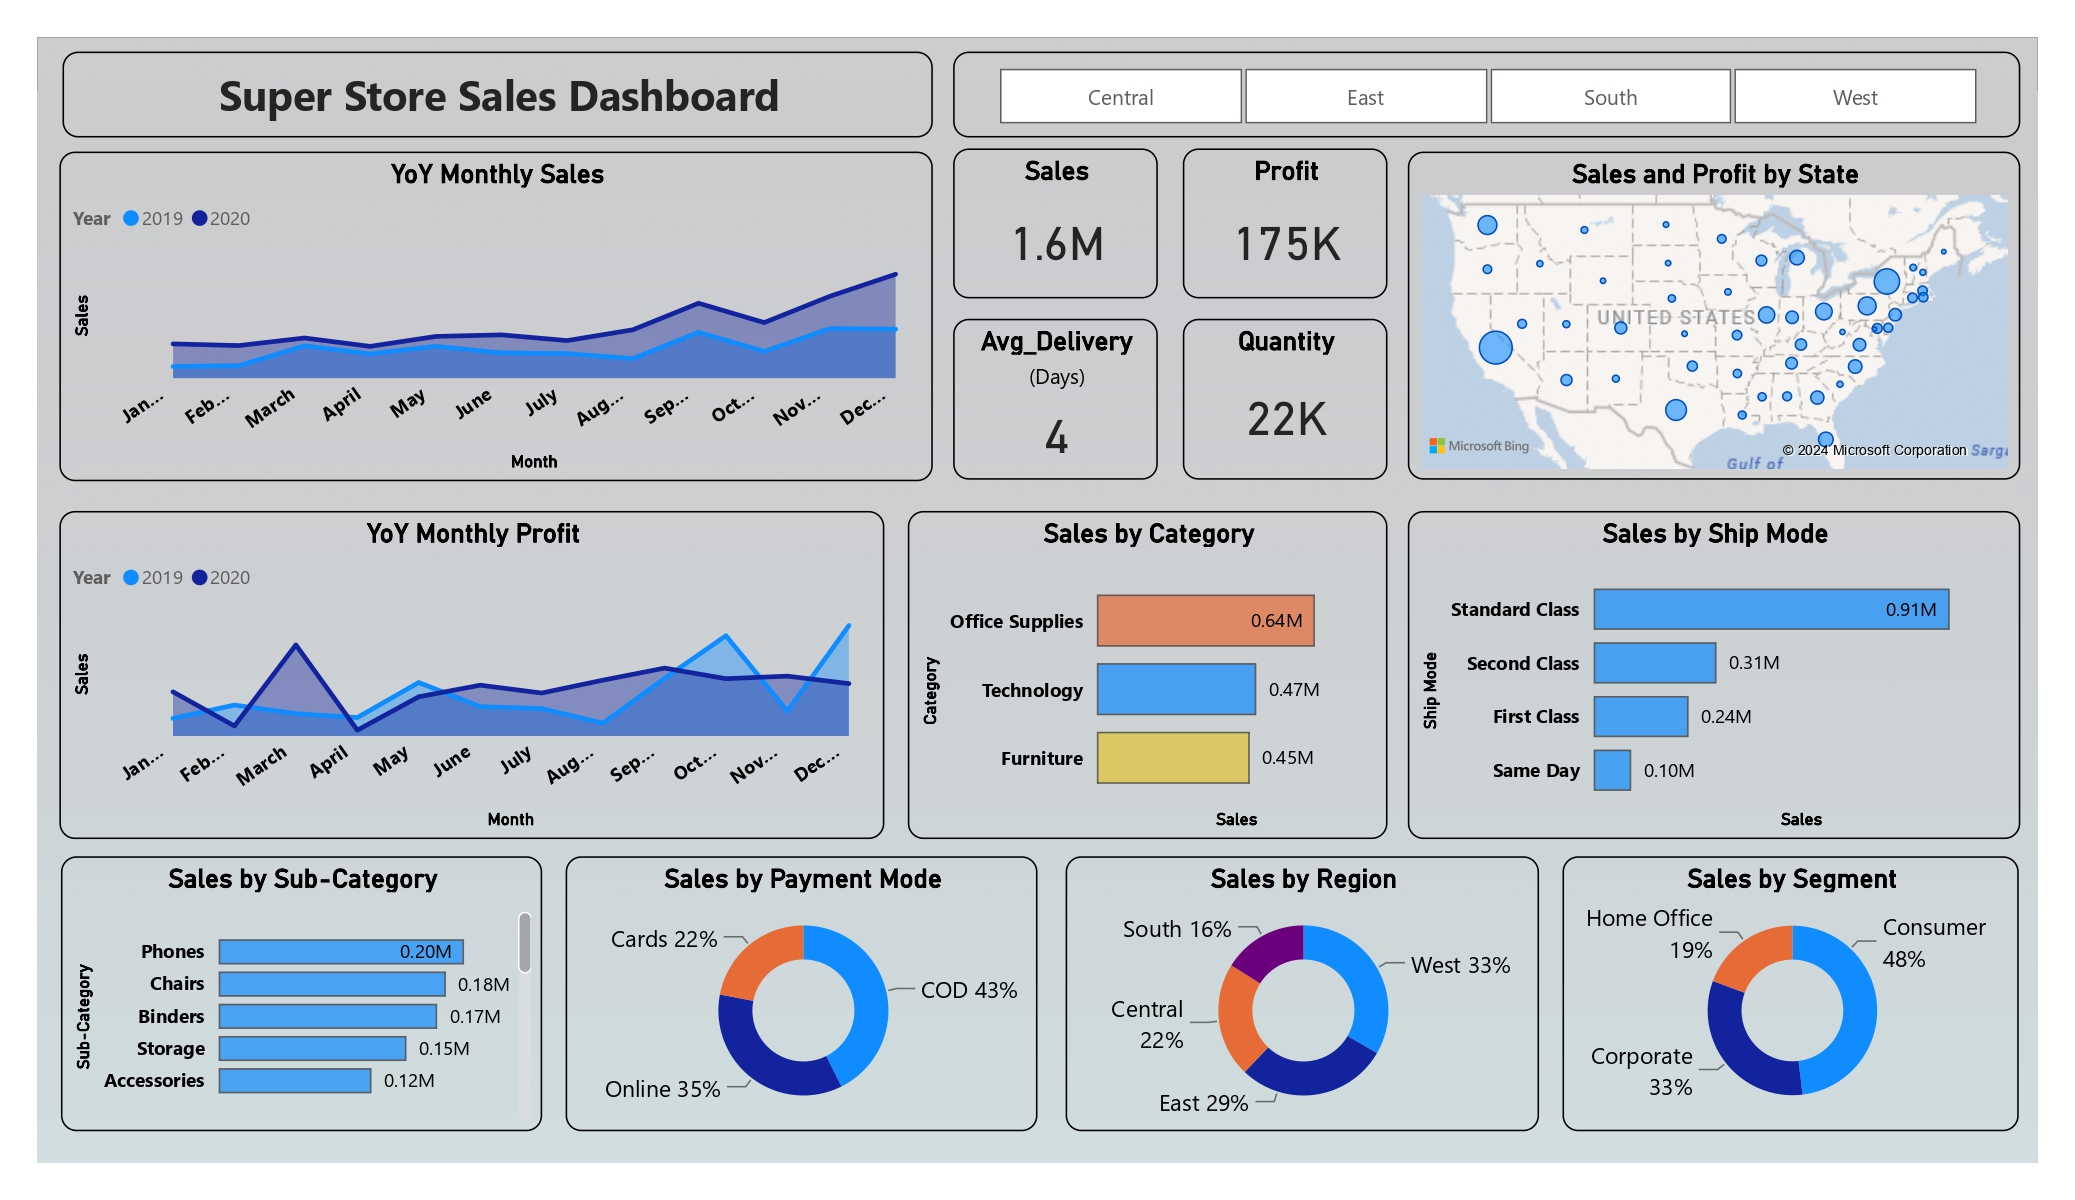

Layout of this report page (visuals, bound fields, positions):
{"tool":"powerbi","page":{"name":"Page 1","canvas":[1280,720],"ordinal":0},"visuals":[{"type":"barChart","title":"Sales by Category","fields":{"Y":["Sum(SuperStore_Sales_Dataset.Sales)"],"Category":["SuperStore_Sales_Dataset.Category"]},"box":[557,303,307,210],"z":0},{"type":"barChart","title":"Sales by Ship Mode","fields":{"Y":["Sum(SuperStore_Sales_Dataset.Sales)"],"Category":["SuperStore_Sales_Dataset.Ship Mode"]},"box":[877.1,302.9,391.4,210],"z":1000},{"type":"barChart","title":"Sales by Sub-Category","fields":{"Y":["Sum(SuperStore_Sales_Dataset.Sales)"],"Category":["SuperStore_Sales_Dataset.Sub-Category"]},"box":[15.1,524.1,307.4,176.4],"z":2000},{"type":"map","title":"Sales and Profit by State","fields":{"Size":["Sum(SuperStore_Sales_Dataset.Sales)"],"Category":["SuperStore_Sales_Dataset.State"]},"box":[877.1,72.9,391.4,210],"z":3000},{"type":"donutChart","title":"Sales by Segment","fields":{"Y":["Sum(SuperStore_Sales_Dataset.Sales)"],"Category":["SuperStore_Sales_Dataset.Segment"]},"box":[976,524.1,292.3,176.4],"z":4000},{"type":"donutChart","title":"Sales by Region","fields":{"Y":["Sum(SuperStore_Sales_Dataset.Sales)"],"Category":["SuperStore_Sales_Dataset.Region"]},"box":[658.5,524.1,302.4,176.4],"z":5000},{"type":"donutChart","title":"Sales by Payment Mode","fields":{"Y":["Sum(SuperStore_Sales_Dataset.Sales)"],"Category":["SuperStore_Sales_Dataset.Payment Mode"]},"box":[337.6,524.1,302.4,176.4],"z":6000},{"type":"slicer","fields":{"Values":["SuperStore_Sales_Dataset.Region"]},"box":[585.7,8.6,682.9,55.7],"z":7000},{"type":"textbox","box":[15.7,8.6,557.1,55.7],"z":8000},{"type":"card","title":"Sales","fields":{"Values":["Sum(SuperStore_Sales_Dataset.Sales)"]},"box":[585.7,71.4,131.4,95.7],"z":9000},{"type":"card","title":"Quantity","fields":{"Values":["Sum(SuperStore_Sales_Dataset.Quantity)"]},"box":[732.9,180,131.4,102.9],"z":10000},{"type":"card","title":"Profit","fields":{"Values":["Sum(SuperStore_Sales_Dataset.Profit)"]},"box":[732.9,71.4,131.4,95.7],"z":11000},{"type":"card","title":"Avg_Delivery","fields":{"Values":["Avg(SuperStore_Sales_Dataset.Avg_Delivery)"]},"box":[585.7,180,131.4,102.9],"z":12000},{"type":"lineChart","title":"YoY Monthly Sales","fields":{"Y":["Sum(SuperStore_Sales_Dataset.Sales)"],"Category":["SuperStore_Sales_Dataset.Order Date.Variation.Date Hierarchy.Month","SuperStore_Sales_Dataset.Order Date.Variation.Date Hierarchy.Day"],"Series":["SuperStore_Sales_Dataset.Order Date.Variation.Date Hierarchy.Year"]},"box":[14.4,73.4,558.7,210.2],"z":13000},{"type":"lineChart","title":"YoY Monthly Profit","fields":{"Y":["Sum(SuperStore_Sales_Dataset.Profit)"],"Category":["SuperStore_Sales_Dataset.Order Date.Variation.Date Hierarchy.Month","SuperStore_Sales_Dataset.Order Date.Variation.Date Hierarchy.Day"],"Series":["SuperStore_Sales_Dataset.Order Date.Variation.Date Hierarchy.Year"]},"box":[14,303,528,210],"z":14000}]}

Visuals, with their boxes in screenshot pixels (x1, y1, x2, y2):
"Sales by Category" barChart: x1=908 y1=505 x2=1381 y2=829
"Sales by Ship Mode" barChart: x1=1401 y1=505 x2=2005 y2=829
"Sales by Sub-Category" barChart: x1=72 y1=846 x2=546 y2=1118
"Sales and Profit by State" map: x1=1401 y1=150 x2=2005 y2=474
"Sales by Segment" donutChart: x1=1554 y1=846 x2=2004 y2=1118
"Sales by Region" donutChart: x1=1064 y1=846 x2=1530 y2=1118
"Sales by Payment Mode" donutChart: x1=569 y1=846 x2=1036 y2=1118
slicer - SuperStore_Sales_Dataset.Region: x1=952 y1=51 x2=2005 y2=137
textbox: x1=73 y1=51 x2=932 y2=137
"Sales" card: x1=952 y1=148 x2=1154 y2=295
"Quantity" card: x1=1179 y1=315 x2=1381 y2=474
"Profit" card: x1=1179 y1=148 x2=1381 y2=295
"Avg_Delivery" card: x1=952 y1=315 x2=1154 y2=474
"YoY Monthly Sales" lineChart: x1=71 y1=151 x2=932 y2=475
"YoY Monthly Profit" lineChart: x1=70 y1=505 x2=884 y2=829
